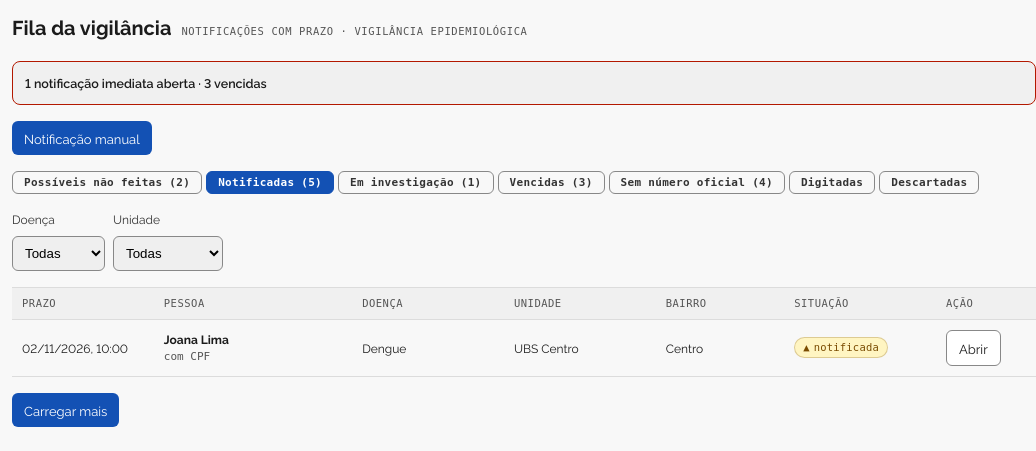
SurveillanceQueue › página que chega depois de trocar de aba não mexe nas páginas da aba nova
Click the button "Carregar mais" at (66, 410), box [12, 393, 119, 427]
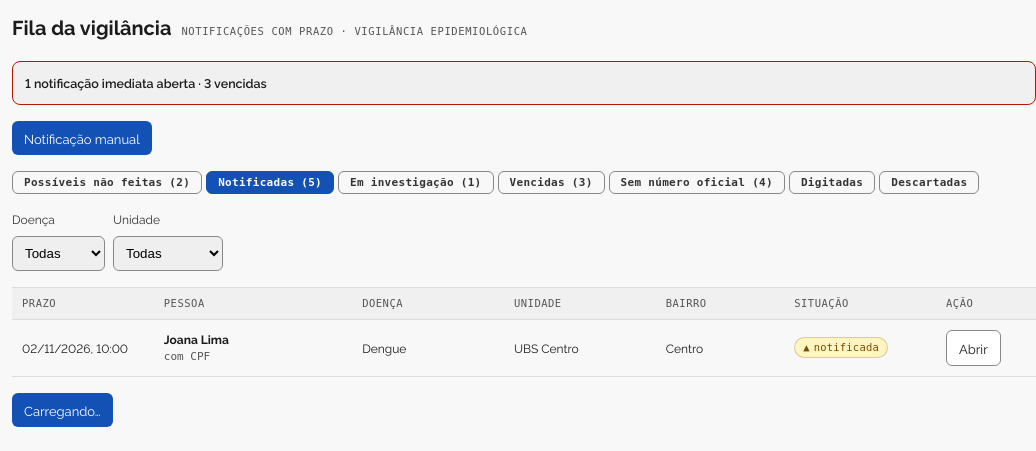
Click the tab "Possíveis não feitas (2)" at (107, 183), box [12, 171, 202, 194]
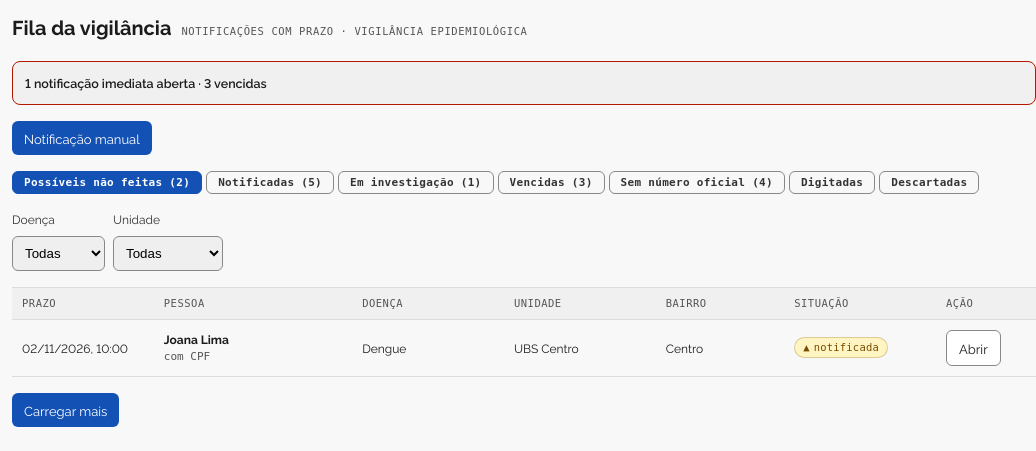
Click the button "Carregar mais" at (66, 410), box [12, 393, 119, 427]
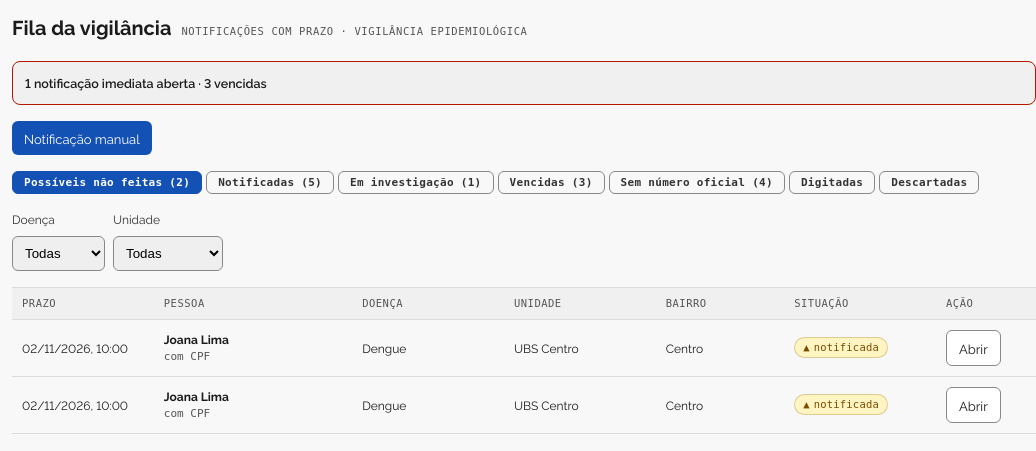
expect the button "Carregar mais" is gone: met
